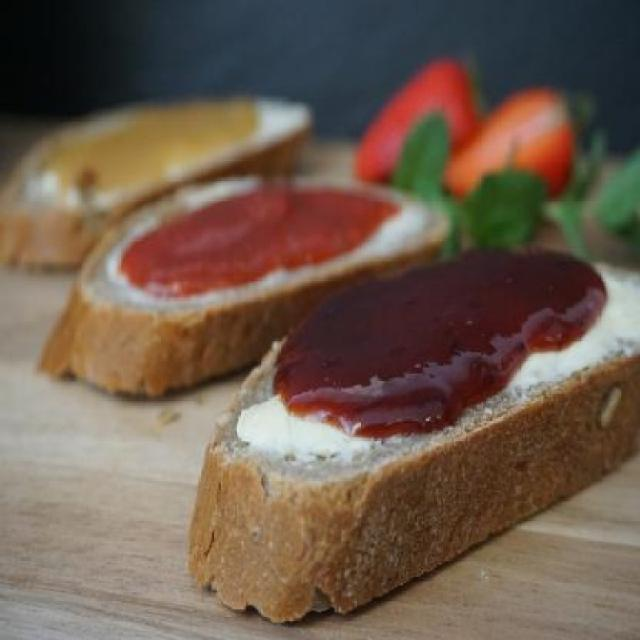Spread: (279, 244, 610, 438), (120, 184, 402, 296)
